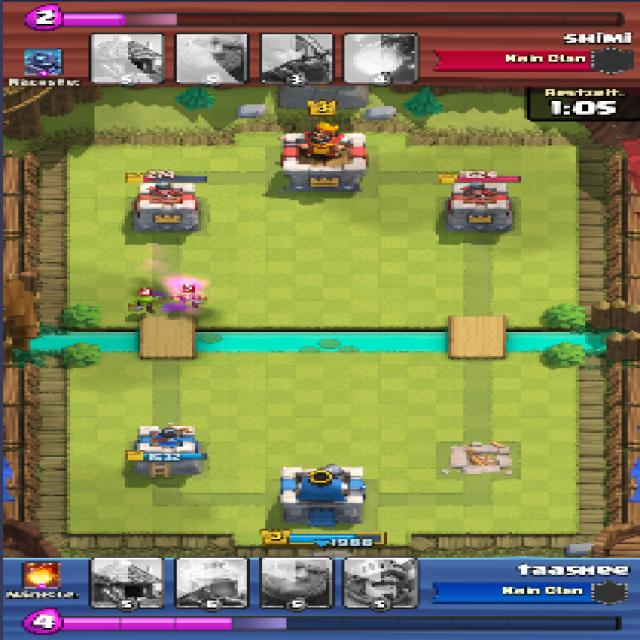Enemy-Goblin: (125, 295, 162, 315), (172, 292, 210, 307)
